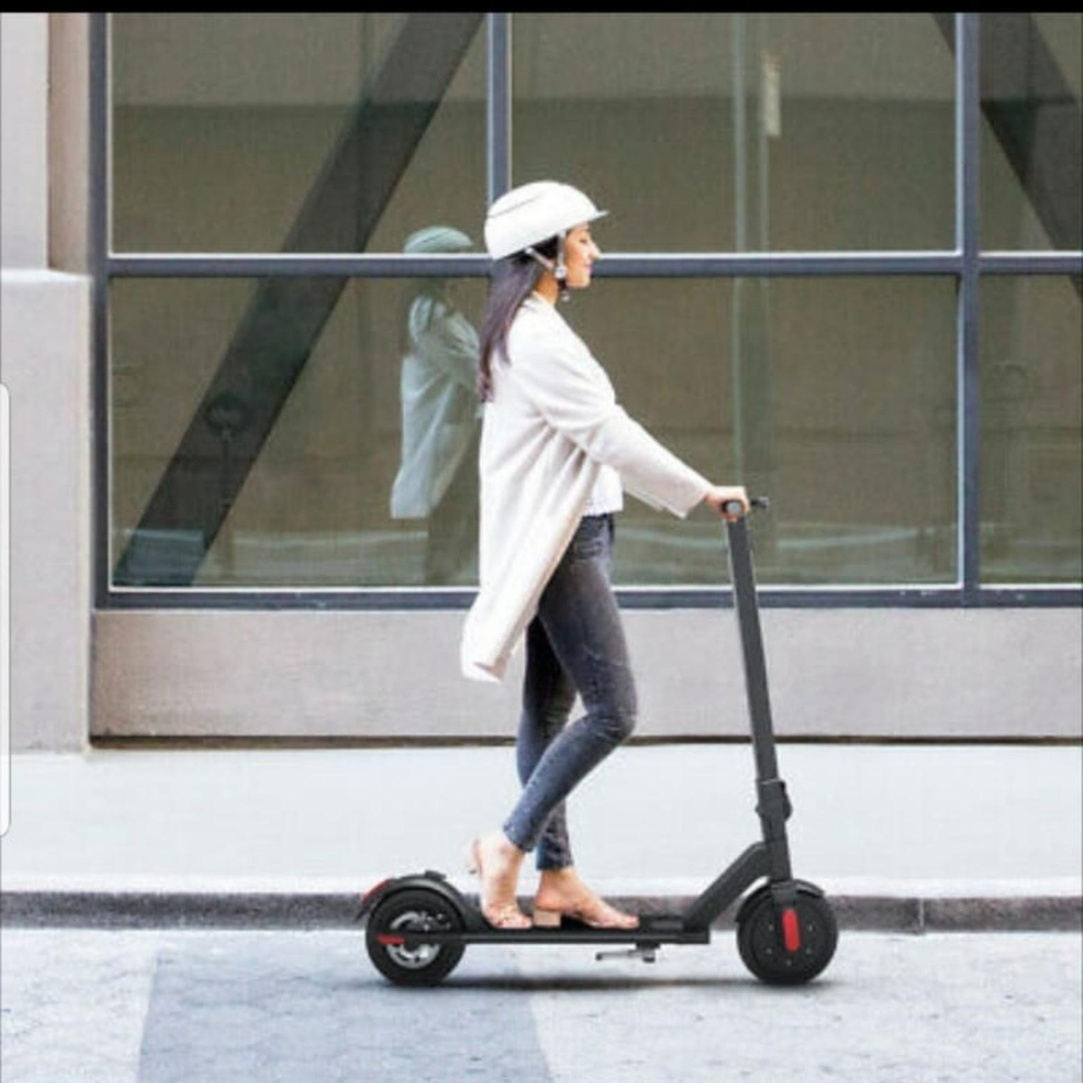helmet: (472, 179, 613, 311)
human: (474, 179, 747, 922)
kickboard: (361, 884, 843, 988)
